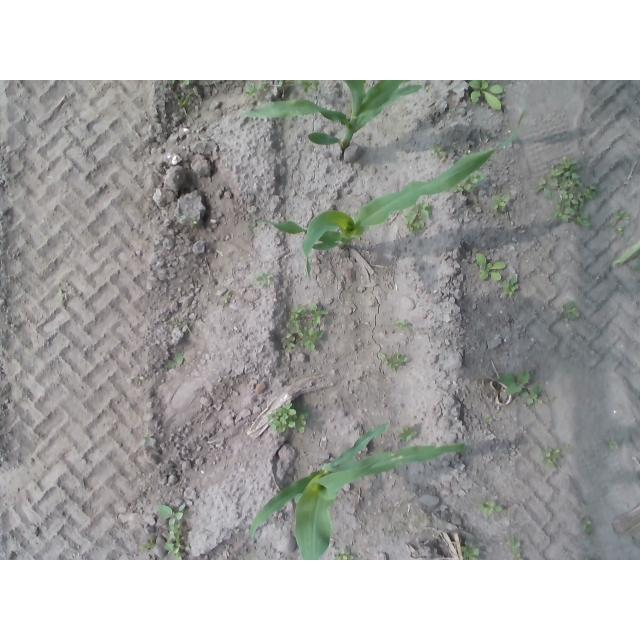Maize: (243, 111, 526, 283), (249, 422, 467, 559), (238, 81, 423, 160)
Weeds: (533, 159, 599, 229), (283, 304, 331, 356), (153, 504, 195, 559), (500, 370, 547, 407), (269, 398, 312, 438), (468, 81, 506, 112), (475, 254, 505, 285), (408, 202, 436, 234), (239, 81, 291, 96), (378, 353, 414, 372), (608, 211, 632, 237), (175, 209, 202, 231), (491, 193, 517, 215), (253, 266, 275, 291), (173, 90, 200, 110), (542, 445, 562, 471), (161, 351, 188, 370), (561, 301, 583, 324), (479, 499, 505, 518), (504, 275, 523, 300), (460, 541, 485, 560), (393, 317, 415, 338), (301, 82, 323, 101), (55, 278, 71, 303), (217, 290, 236, 310), (506, 538, 526, 557), (464, 172, 484, 190), (334, 546, 355, 560), (430, 146, 446, 162), (139, 436, 158, 449), (581, 517, 596, 533), (485, 411, 500, 425), (607, 441, 620, 454)
